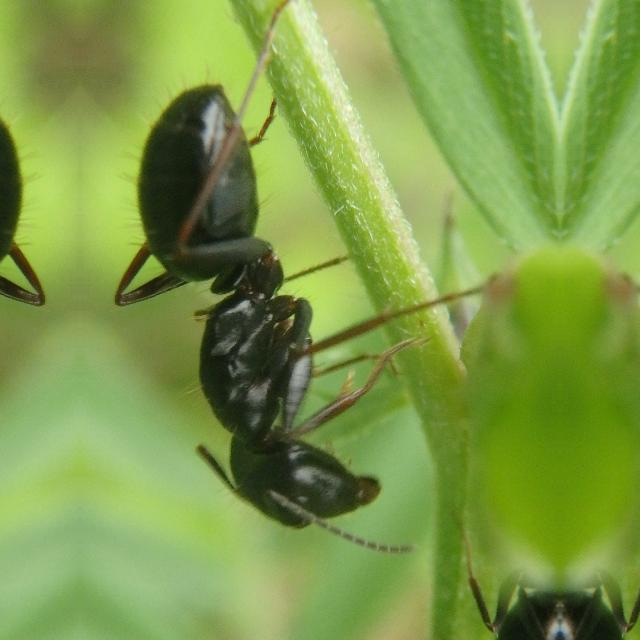Camponotus: (97, 20, 415, 588), (403, 501, 559, 639), (560, 501, 640, 639)
